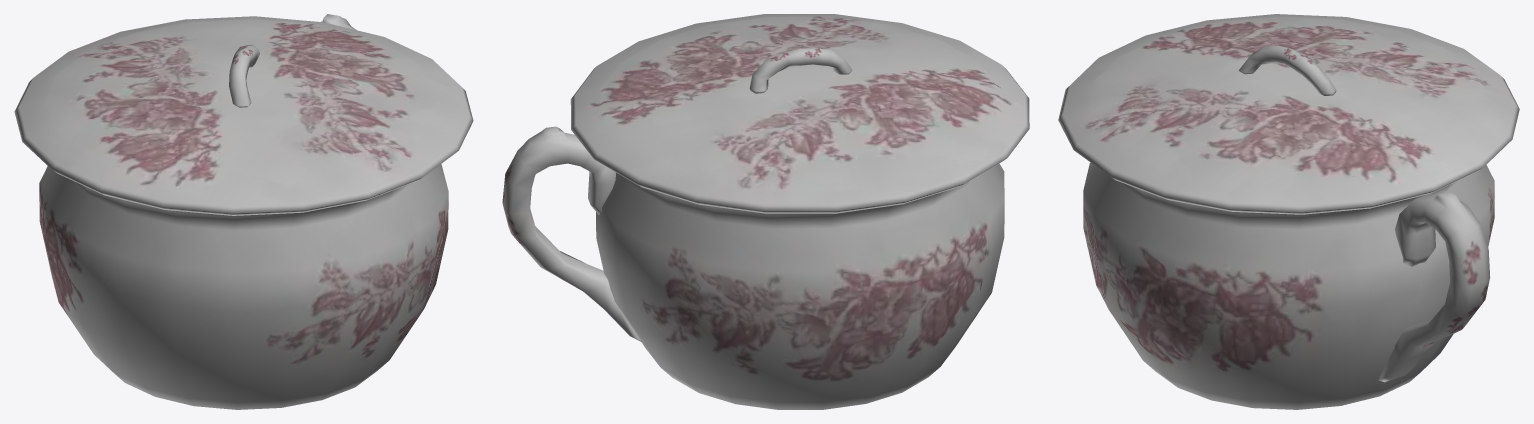
Rendered from s_orinal.glb.
3 views of the same model, side by side, from view 1: azimuth 30°, elevation 25°; view 2: azimuth 150°, elevation 25°; view 3: azimuth 270°, elevation 25° (orthographic).
Visible parts, largest first — view 1: Object_2; view 2: Object_2; view 3: Object_2.
Part boxes in pixels (<box>): Object_2: <box>14,14,473,409</box>; Object_2: <box>502,14,1029,409</box>; Object_2: <box>1058,14,1519,409</box>.
Bounding box in the file's own units: 0.2704 × 0.2 × 0.2652.
Materials: 1 (1 with a texture image).
